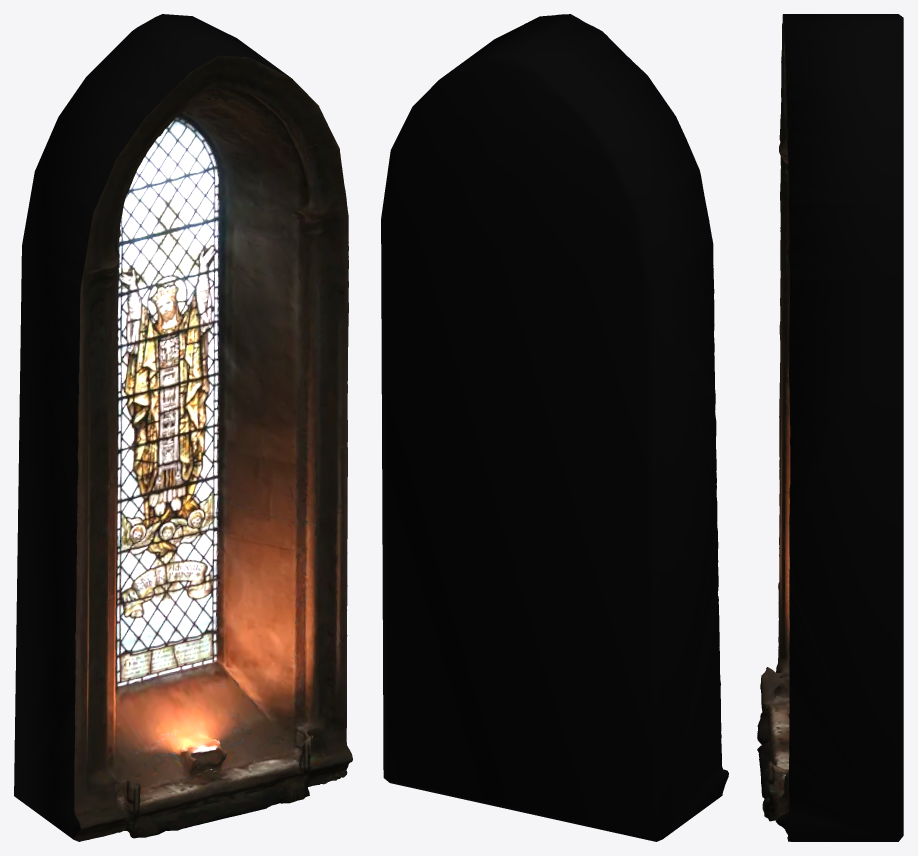
Rendered from stained_glass_window_southwark_cathedral.glb.
3 views of the same model, side by side, from view 1: azimuth 30°, elevation 25°; view 2: azimuth 150°, elevation 25°; view 3: azimuth 270°, elevation 25° (orthographic).
Visible parts, largest first — view 1: Object_2, Object_3; view 2: Object_3; view 3: Object_3, Object_2.
Boxes of the visible parts, <box> form: Object_2: <box>73,55,352,841</box>; Object_3: <box>14,14,348,839</box>; Object_3: <box>381,14,728,841</box>; Object_3: <box>776,14,903,841</box>; Object_2: <box>757,14,790,841</box>.
Bounding box in the file's own units: 20.6 × 52.97 × 9.23.
Materials: 2 (2 with a texture image).
